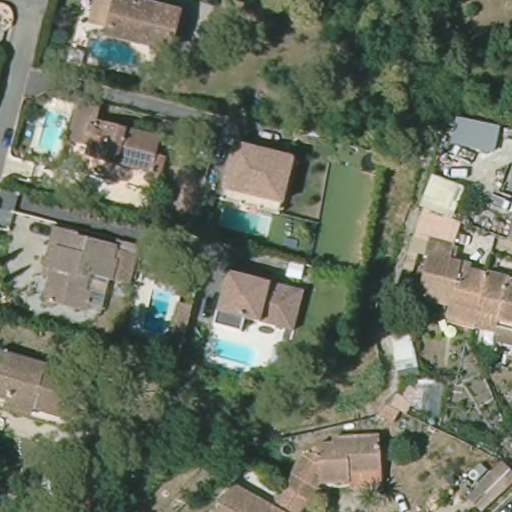pool: (82, 32, 147, 72), (34, 108, 69, 162), (148, 279, 184, 331), (213, 198, 262, 236), (211, 334, 264, 366)
